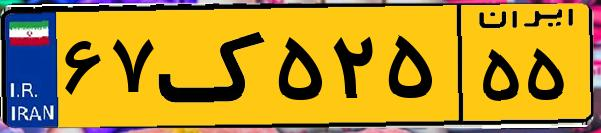2: (330, 28, 385, 110)
5: (270, 28, 330, 110), (385, 28, 445, 110), (475, 38, 525, 113), (525, 38, 570, 115)
6: (57, 26, 110, 100)
7: (110, 28, 158, 98)
ک: (158, 12, 270, 120)
